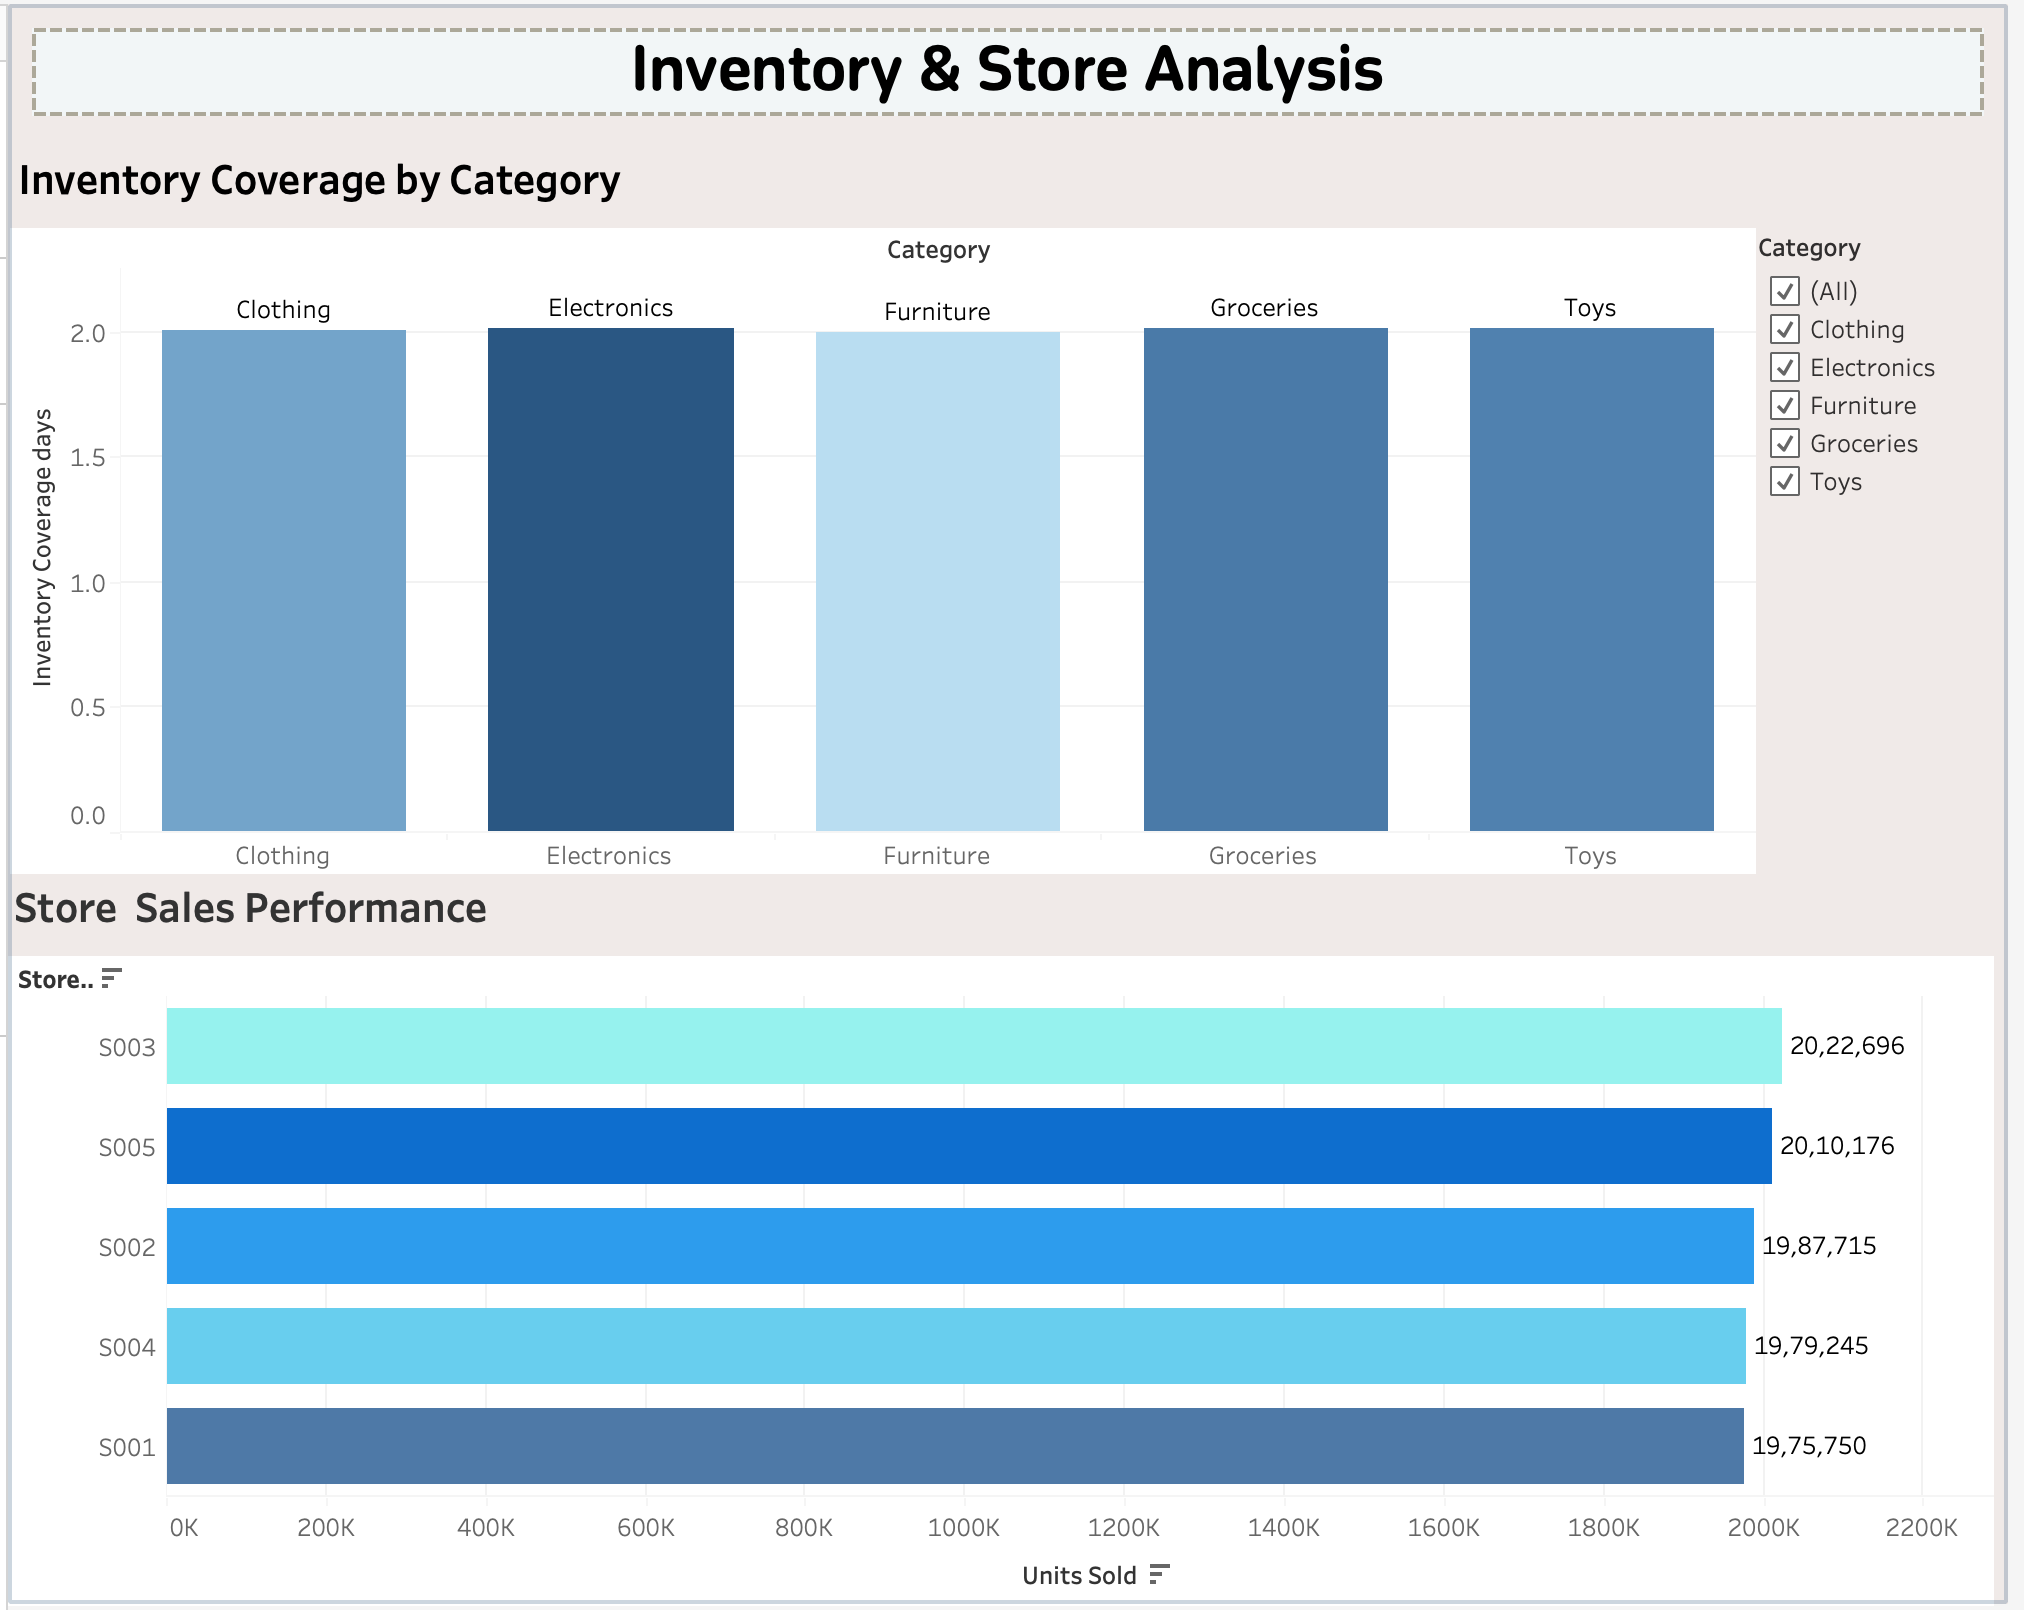

The page's visual inventory and layout, read from the dashboard file:
{"tool":"tableau","page":{"name":"Dashboard 2","canvas":[1000,800],"ordinal":1},"visuals":[{"type":"title","box":[8,8,984,52]},{"type":"worksheet","title":"Sheet 5","mark":"Automatic","rows":["Calculation_3625413634101250"],"cols":["Category"],"box":[1,69,873,366]},{"type":"filter","title":"Sheet 5","param":"[federated.0f5477c1i1tk4o1cydkhj1j9py2h].[none:Category:nk]","box":[875,113,124,138]}]}

Visuals, with their boxes in screenshot pixels (x1, y1, x2, y2), scaled from the page's 1000x800 canvas onto the 2024x1610 screenshot:
title: 16,16,2008,121
"Sheet 5" worksheet: 2,139,1769,875
"Sheet 5" filter: 1771,227,2022,505
